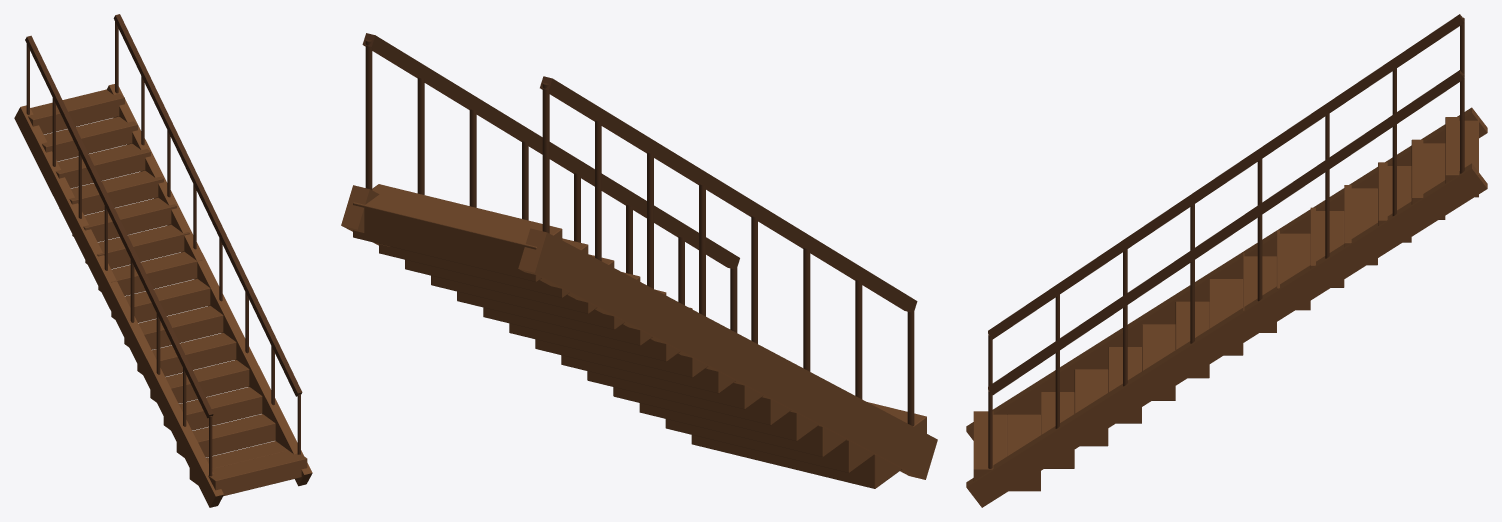
Rendered from source-edit.glb.
3 renders of one model, left to right at view 1: azimuth 30°, elevation 25°; view 2: azimuth 150°, elevation 25°; view 3: azimuth 270°, elevation 25°, orthographic. The views are drawn at different scales.
Visible parts, largest first — view 1: STRINGER, STRINGER.001, HANDRAIL, HANDRAIL.001, STEP_0, STEP_14, STEP_13, STEP_2, STEP_12, STEP_11, STEP_10, STEP_9 (+7 smaller); view 2: STRINGER, STEP_14, HANDRAIL, HANDRAIL.001, STEP_1, STEP_2, STEP_3, STEP_4, STEP_5, STEP_6, STEP_7, STEP_8 (+17 smaller); view 3: STRINGER.001, STRINGER, HANDRAIL, HANDRAIL.001, STEP_0, STEP_13, STEP_14, STEP_11, STEP_9, STEP_7, STEP_10, STEP_3 (+7 smaller).
Part boxes in pixels (<box>): STRINGER: <box>14,105,223,507</box>; STRINGER.001: <box>106,84,312,486</box>; HANDRAIL: <box>25,35,213,418</box>; HANDRAIL.001: <box>113,14,302,396</box>; STEP_0: <box>208,450,307,496</box>; STEP_14: <box>28,89,124,134</box>; STEP_13: <box>42,116,137,161</box>; STEP_2: <box>176,414,275,457</box>; STEP_12: <box>55,143,150,188</box>; STEP_11: <box>59,170,163,215</box>; STEP_10: <box>72,197,176,241</box>; STEP_9: <box>85,224,189,269</box>; STRINGER: <box>518,228,937,479</box>; STEP_14: <box>353,184,562,281</box>; HANDRAIL: <box>540,76,917,312</box>; HANDRAIL.001: <box>362,33,739,269</box>; STEP_1: <box>691,435,900,488</box>; STEP_2: <box>665,419,874,472</box>; STEP_3: <box>639,403,846,456</box>; STEP_4: <box>613,387,818,441</box>; STEP_5: <box>587,371,791,425</box>; STEP_6: <box>561,355,763,409</box>; STEP_7: <box>535,339,735,393</box>; STEP_8: <box>509,323,707,377</box>; STRINGER.001: <box>966,163,1487,507</box>; STRINGER: <box>966,107,1487,440</box>; HANDRAIL: <box>988,14,1464,339</box>; HANDRAIL.001: <box>988,70,1464,394</box>; STEP_0: <box>973,411,1007,480</box>; STEP_13: <box>1411,139,1445,219</box>; STEP_14: <box>1445,117,1478,197</box>; STEP_11: <box>1344,185,1377,265</box>; STEP_9: <box>1277,230,1310,310</box>; STEP_7: <box>1209,279,1243,355</box>; STEP_10: <box>1310,207,1344,287</box>; STEP_3: <box>1074,369,1108,446</box>.
Bounding box in the file's own units: 1.16 × 3.84 × 4.18.
